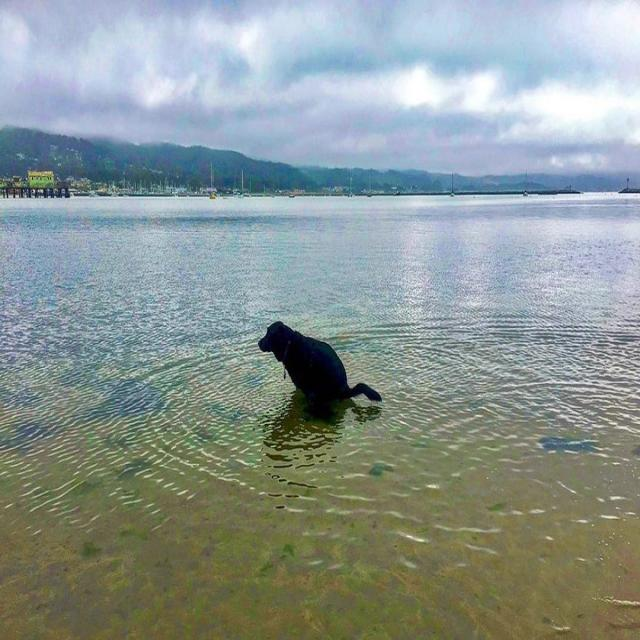squatting: (255, 318, 385, 426)
